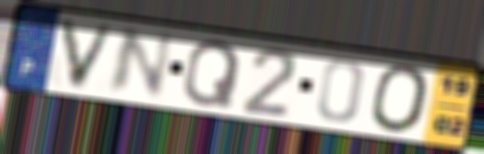0: (314, 57, 368, 124)
2: (240, 45, 302, 121)
N: (103, 25, 178, 99)
O: (369, 63, 433, 136)
Q: (180, 38, 244, 109)
V: (56, 15, 118, 93)
